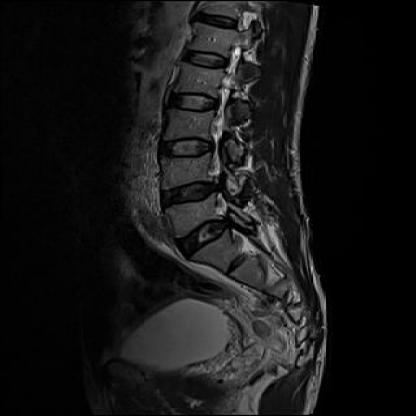Disc Bulgerotation: (170, 217, 248, 249)
